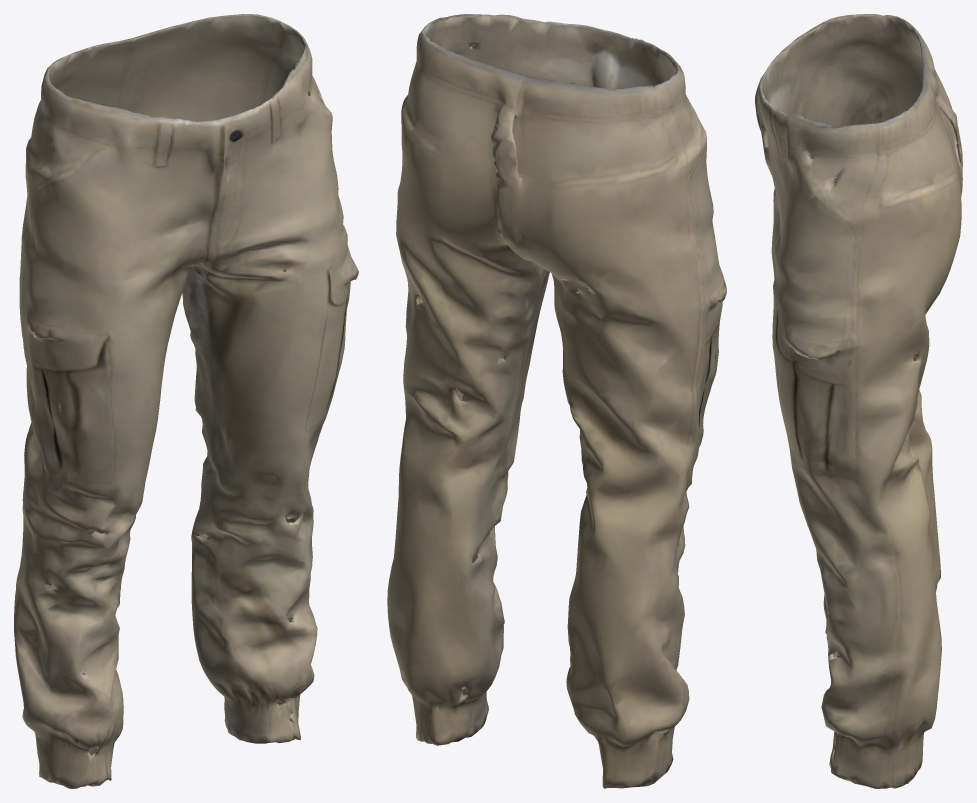
Rendered from modelo.glb.
3 views of the same model, side by side, from view 1: azimuth 30°, elevation 25°; view 2: azimuth 150°, elevation 25°; view 3: azimuth 270°, elevation 25° (orthographic). The views are drawn at different scales.
Size of the model in its own units: 0.9322 by 2 by 0.564.
Materials: 1 (1 with a texture image).
